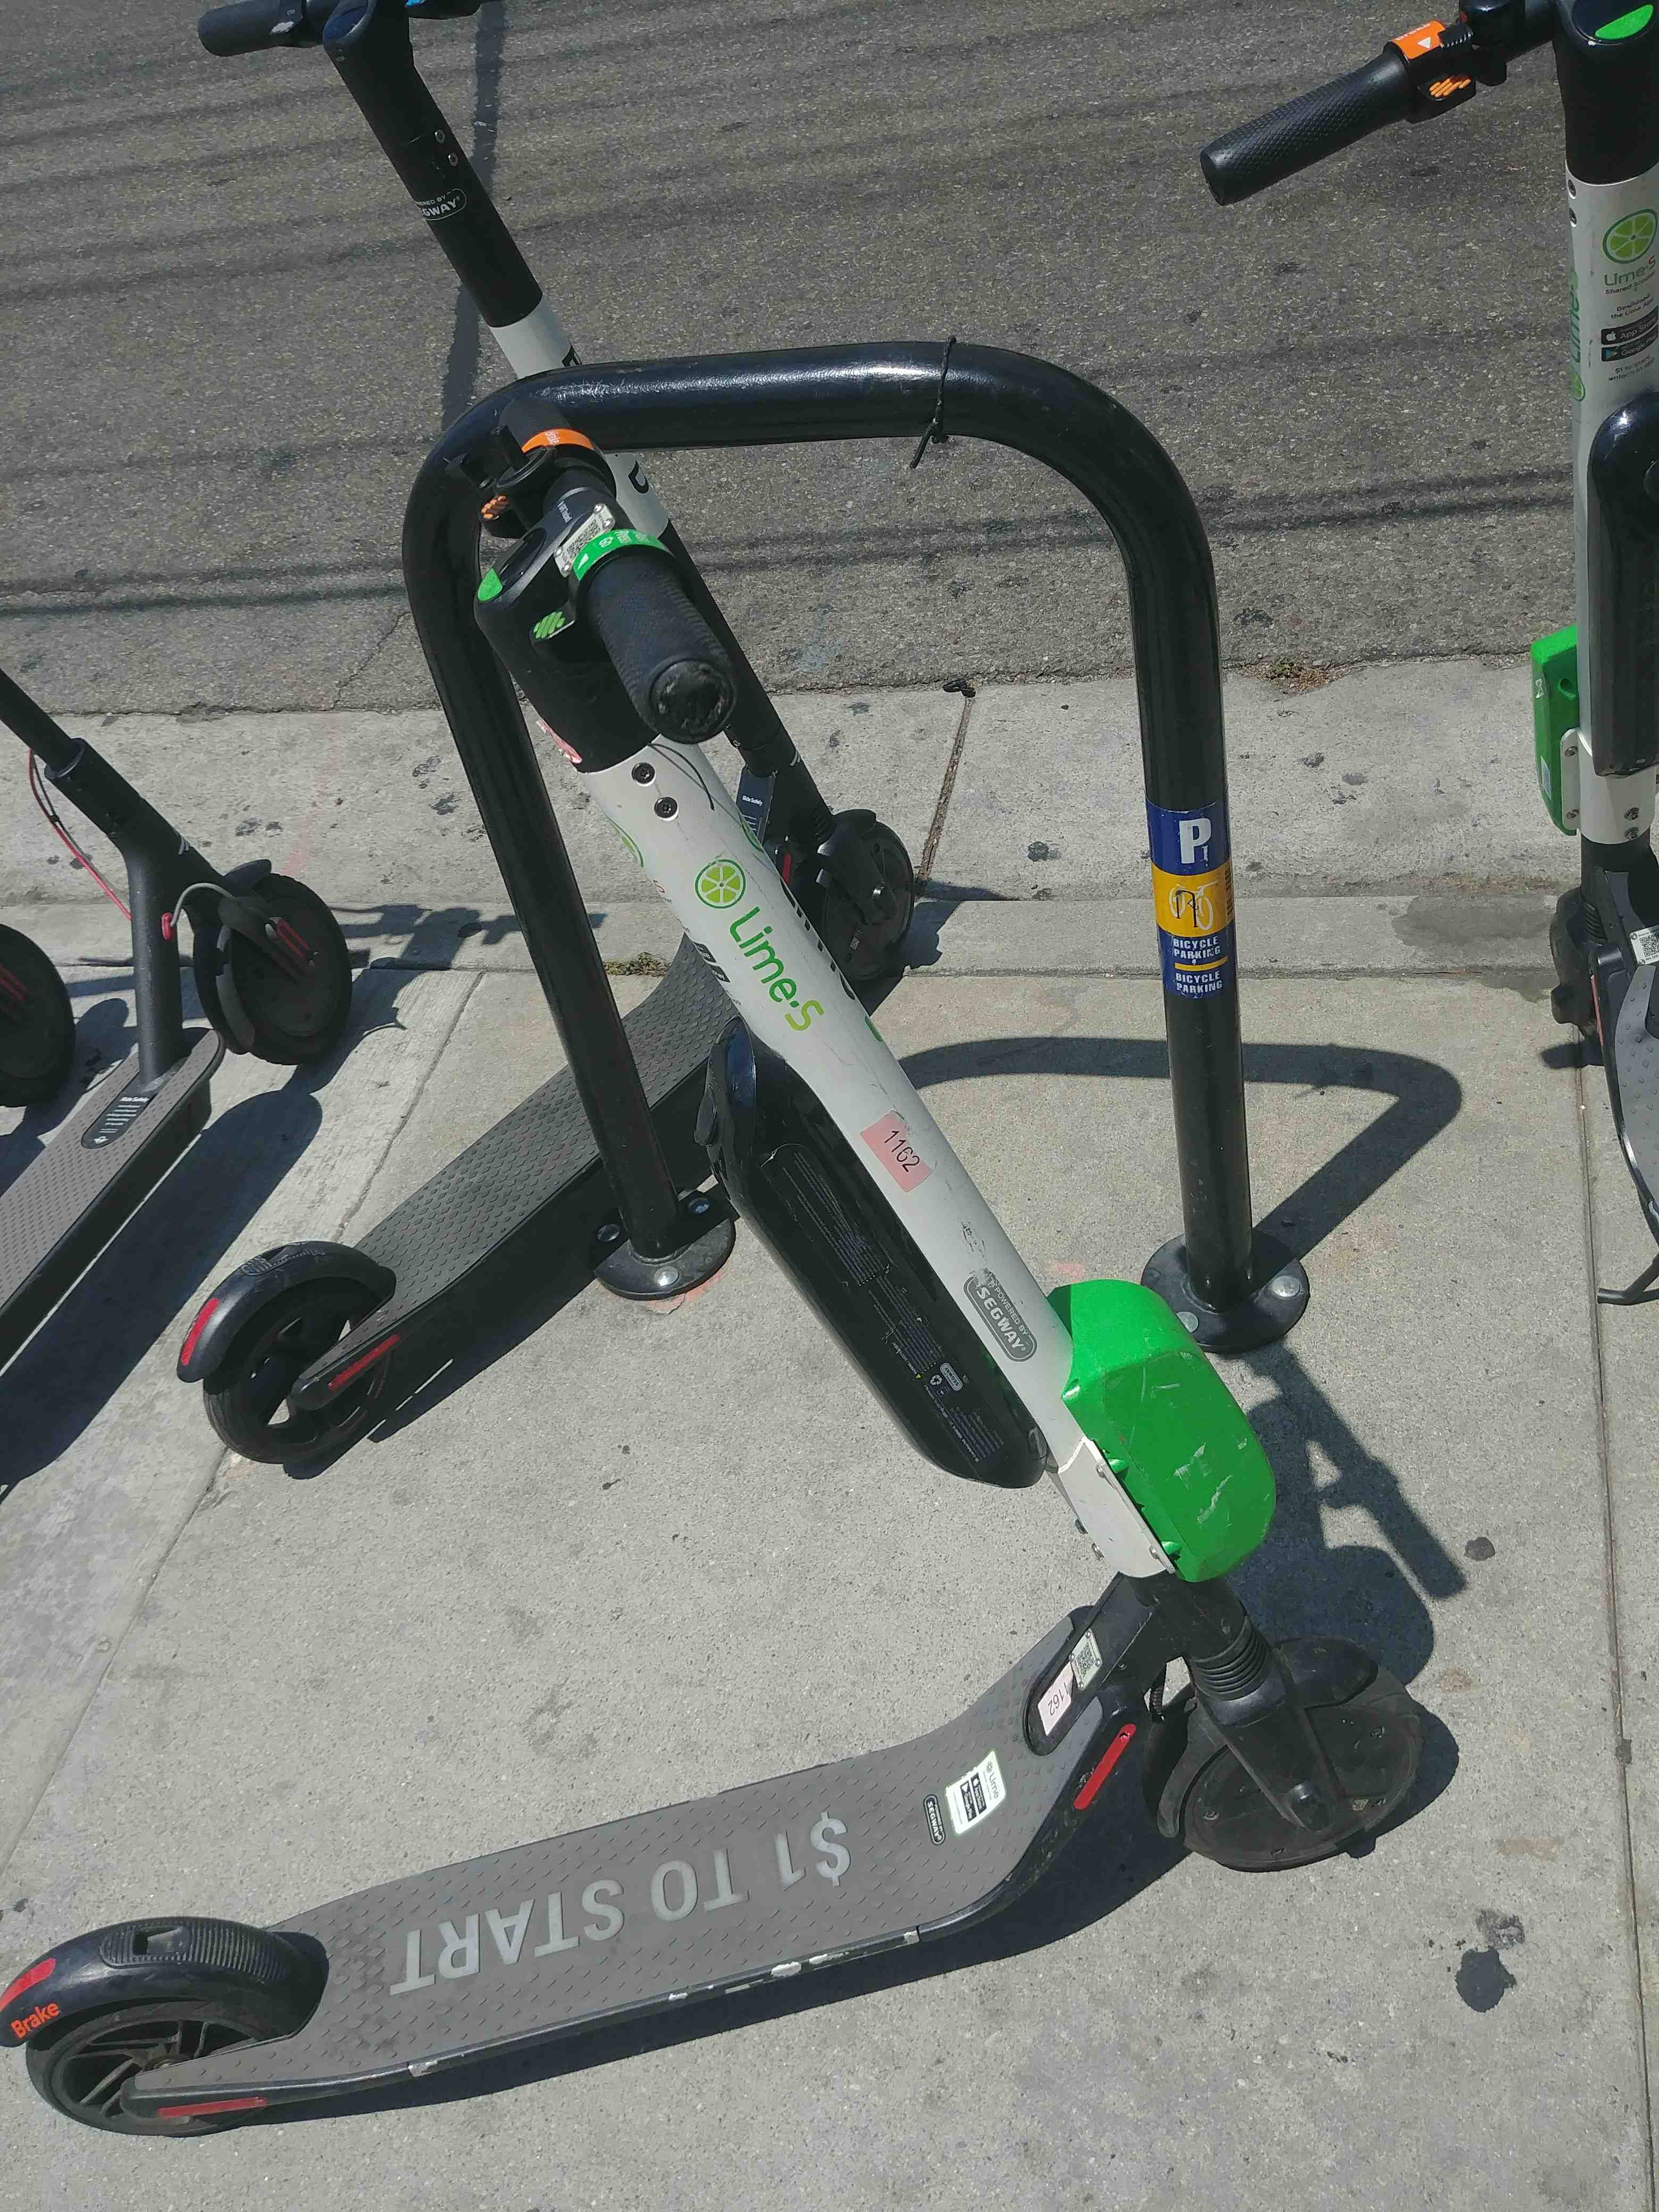scooter: (14, 340, 1450, 2155)
